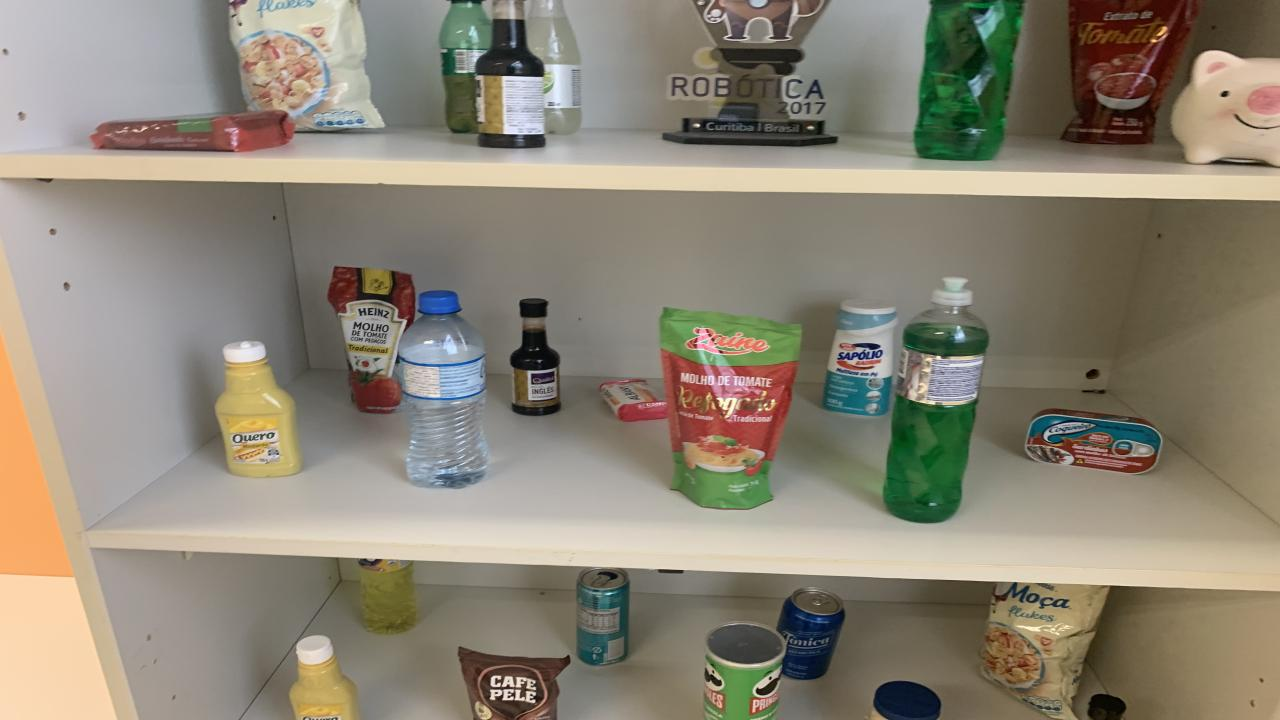Cleaner-Cleanup_Items: (822, 298, 898, 416)
Coffee-Pantry_Items: (458, 647, 570, 720)
Detergent-Cleanup_Items: (882, 278, 990, 523), (915, 0, 1022, 159), (358, 559, 418, 634)
English_Sauce-Pantry_Items: (475, 0, 545, 148), (510, 298, 560, 416)
Flakes-Snacks: (230, 0, 385, 131), (980, 583, 1108, 718)
Guarana-Drinks: (438, 0, 492, 133)
Guava-Snacks: (90, 111, 295, 152)
Mayonnaise-Pantry_Items: (868, 681, 942, 720)
Mustard-Pantry_Items: (215, 343, 302, 476), (290, 636, 360, 720)
Pig_Safe-Miscellaneous: (1172, 51, 1280, 167)
Pringles-Snacks: (705, 622, 788, 720)
Soap-Cleanup_Items: (600, 379, 668, 422)
Soda-Drinks: (528, 0, 582, 135)
Tea-Drinks: (578, 568, 630, 666)
Tomato_Sauce-Pantry_Items: (660, 308, 800, 508), (1062, 0, 1202, 144), (328, 266, 415, 412)
Tonic-Drinks: (778, 587, 845, 679)
Trophy-Miscellaneous: (662, 0, 838, 146)
Tuna_Can-Pantry_Items: (1025, 409, 1162, 474)
Water_Bottle-Drinks: (398, 291, 488, 488)
